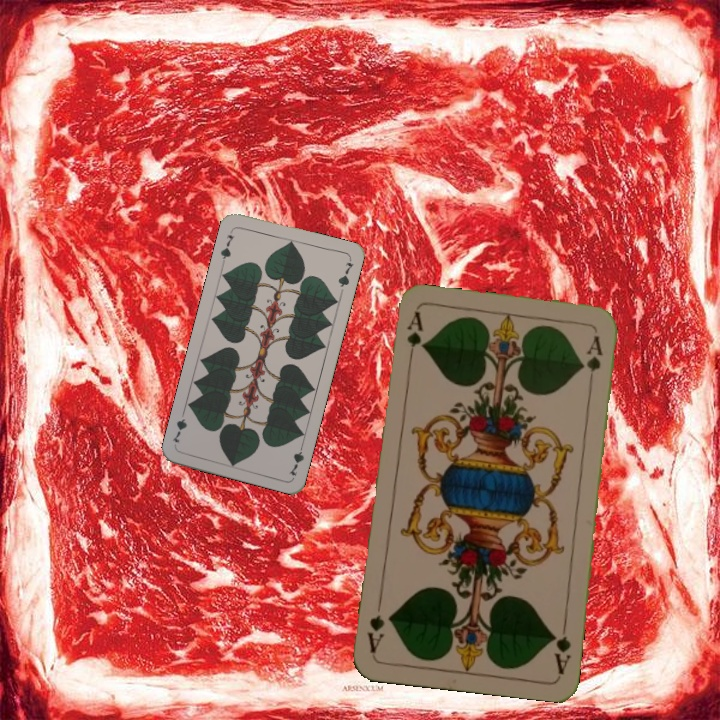G7: (285, 439, 307, 478), (216, 225, 237, 265)
GA: (548, 617, 574, 677), (402, 308, 424, 367)
